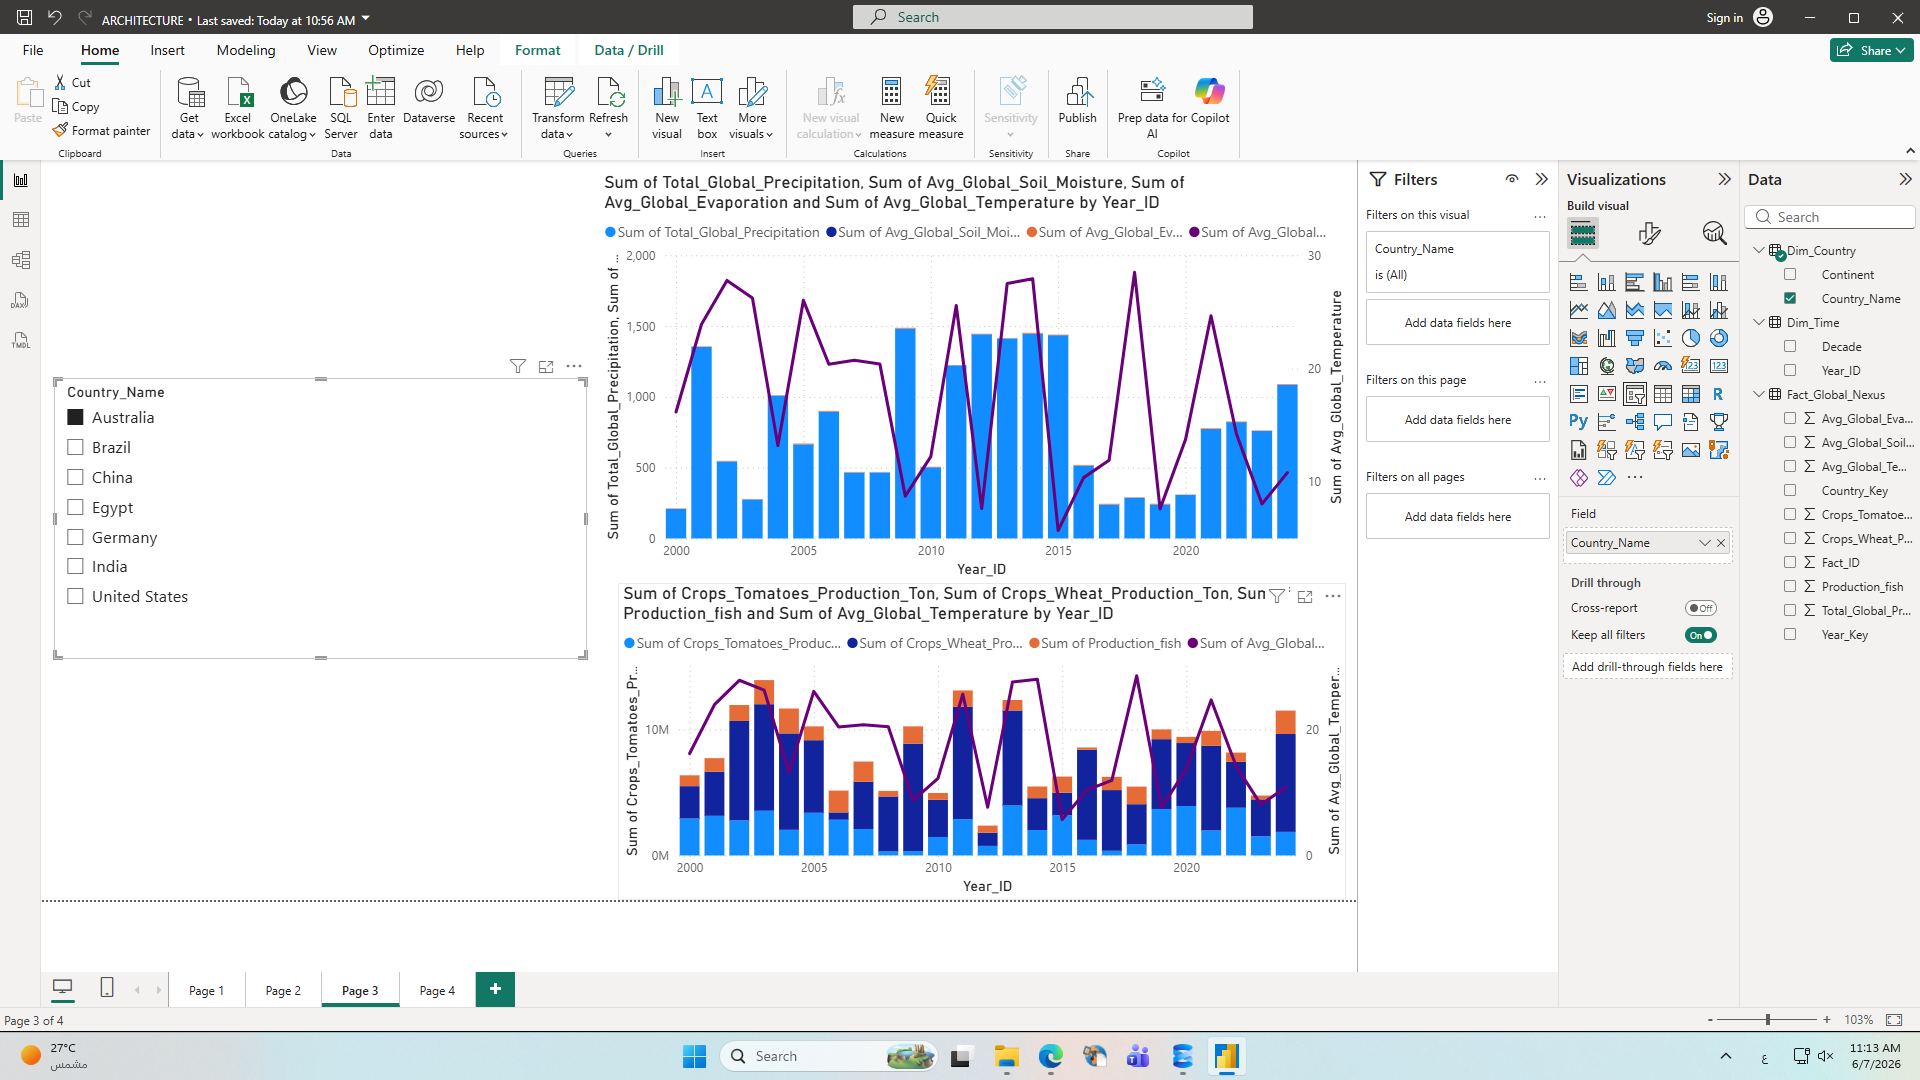

What the dashboard file says about the page in this screenshot:
{"tool":"powerbi","page":{"name":"Page 3","canvas":[1280,720],"ordinal":2},"visuals":[{"type":"lineStackedColumnComboChart","fields":{"Category":["Dim_Time.Year_ID"],"Y":["Sum(Fact_Global_Nexus.Total_Global_Precipitation)","Sum(Fact_Global_Nexus.Avg_Global_Soil_Moisture)","Sum(Fact_Global_Nexus.Avg_Global_Evaporation)"],"Y2":["Sum(Fact_Global_Nexus.Avg_Global_Temperature)"]},"box":[542.7,11.7,728.5,399.8],"z":0},{"type":"slicer","fields":{"Values":["Dim_Country.Country_Name"]},"box":[12.6,212,518.4,273.3],"z":1000},{"type":"lineStackedColumnComboChart","fields":{"Category":["Dim_Time.Year_ID"],"Y":["Sum(Fact_Global_Nexus.Crops_Tomatoes_Production_Ton)","Sum(Fact_Global_Nexus.Crops_Wheat_Production_Ton)","Sum(Fact_Global_Nexus.Production_MT)"],"Y2":["Sum(Fact_Global_Nexus.Avg_Global_Temperature)"]},"box":[561.2,411.4,708.1,308.3],"z":2000}]}

Visuals, with their boxes on the page's 1280x720 design canvas (x1, y1, x2, y2). These are canvas units, not pixel positions in the 1920x1080 screenshot, which may show the page scaled, cropped or inside an application window:
lineStackedColumnComboChart - Dim_Time.Year_ID x Sum(Fact_Global_Nexus.Total_Global_Precipitation): x1=543 y1=12 x2=1271 y2=412
slicer - Dim_Country.Country_Name: x1=13 y1=212 x2=531 y2=485
lineStackedColumnComboChart - Dim_Time.Year_ID x Sum(Fact_Global_Nexus.Crops_Tomatoes_Production_Ton): x1=561 y1=411 x2=1269 y2=720
